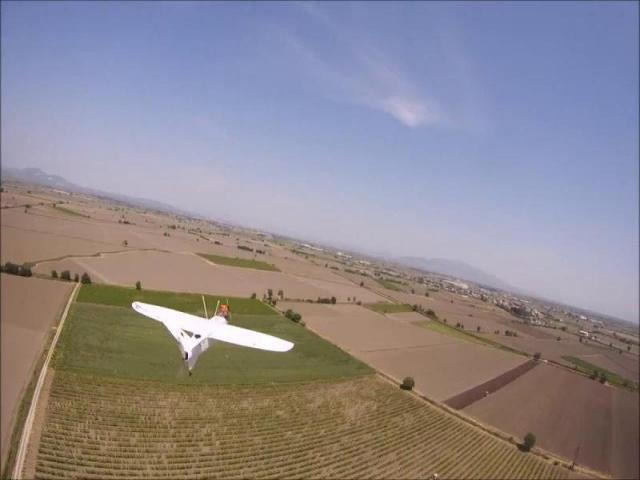hedef: (130, 284, 301, 380)
